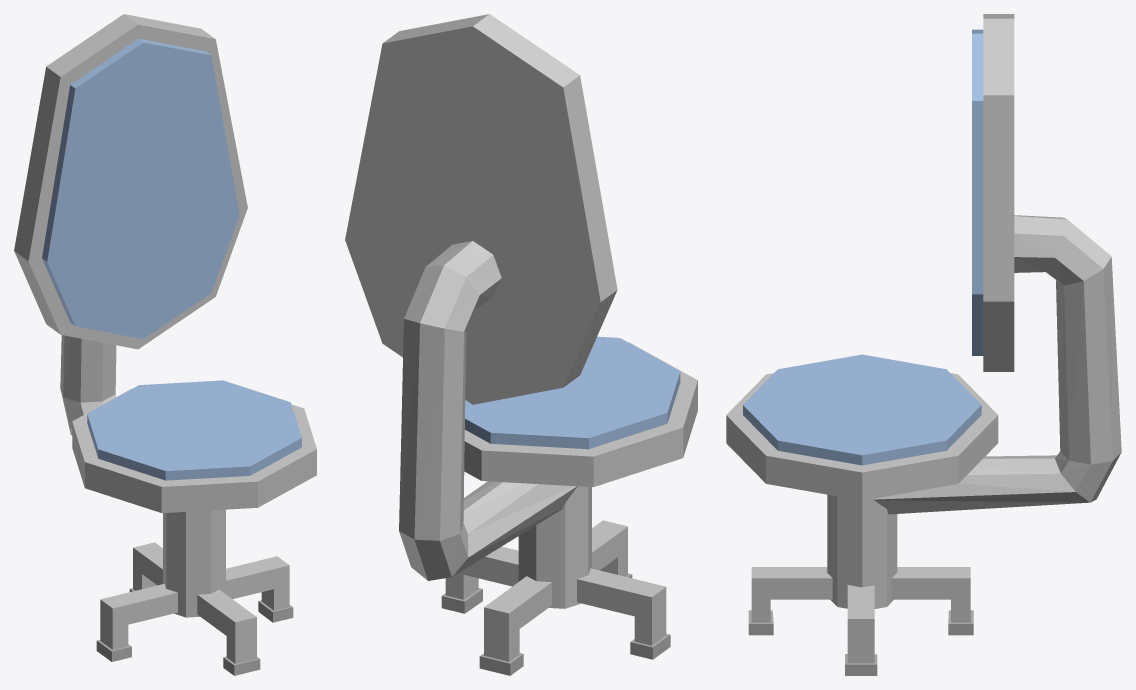
Rendered from office chair_2.fbx.
3 views of the same model, side by side, from view 1: azimuth 30°, elevation 25°; view 2: azimuth 150°, elevation 25°; view 3: azimuth 270°, elevation 25° (orthographic). The views are drawn at different scales.
Visible parts, largest first — view 1: Cube_2; view 2: Cube_2; view 3: Cube_2.
Boxes of the visible parts, x1,y1,x2,y2 form: Cube_2: [14, 14, 316, 675]; Cube_2: [345, 14, 697, 675]; Cube_2: [726, 14, 1121, 675].
Bounding box in the file's own units: 23.27 × 57.59 × 33.84.
